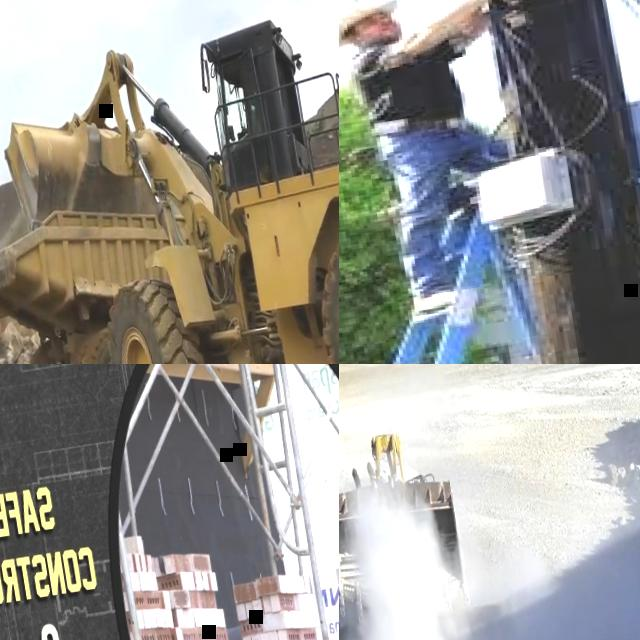NO-Hardhat: (339, 0, 389, 32)
NO-Mask: (361, 22, 402, 43)
NO-Safety Vest: (358, 32, 463, 126)
Person: (339, 0, 558, 319)
vehicle: (0, 0, 339, 364), (0, 181, 215, 364), (339, 414, 474, 633), (339, 544, 587, 640)
